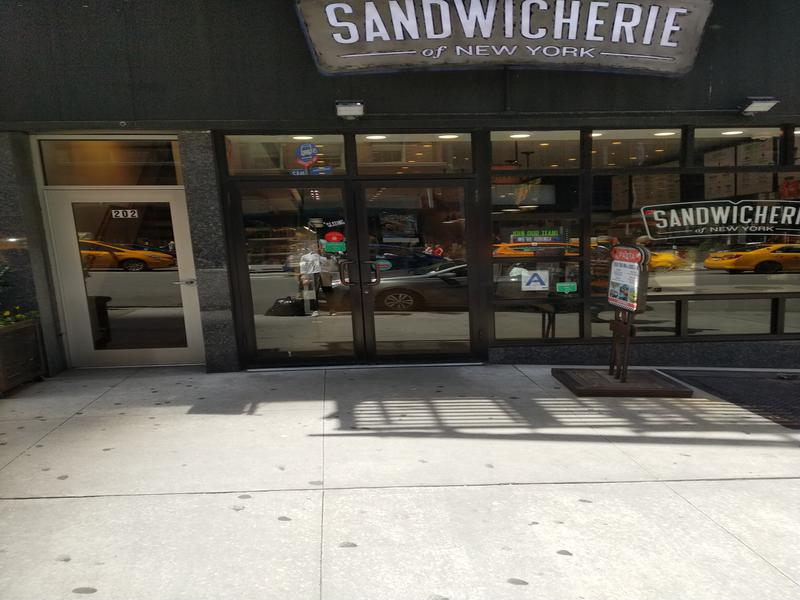door: (44, 180, 204, 367)
double_door: (222, 173, 490, 366)
